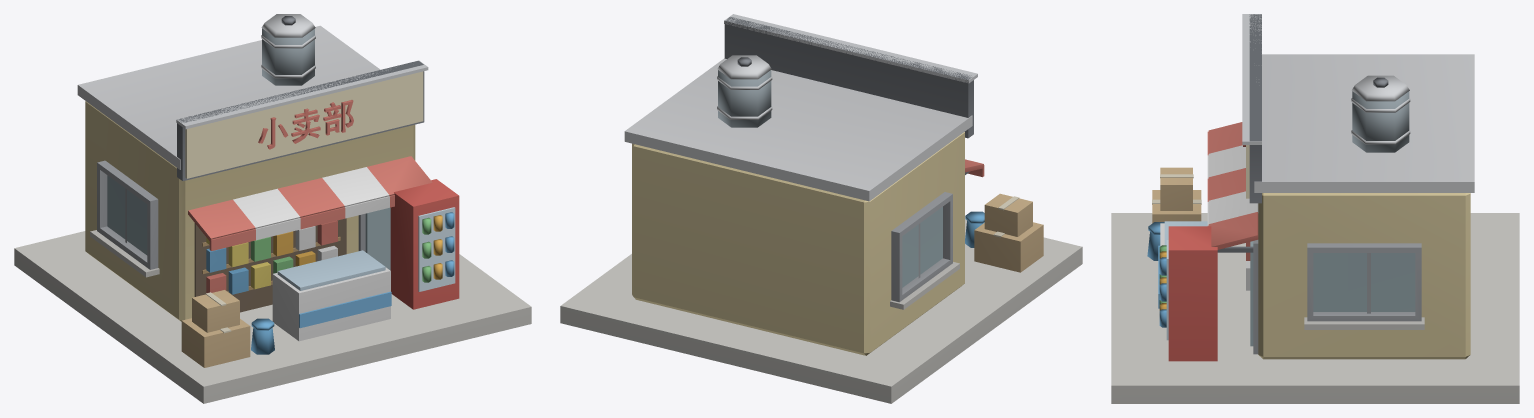
The model's file is store.glb.
3 views of the same model, side by side, from view 1: azimuth 30°, elevation 25°; view 2: azimuth 150°, elevation 25°; view 3: azimuth 270°, elevation 25° (orthographic). The views are drawn at different scales.
Parts seen in each view (by area): view 1: store; view 2: store; view 3: store.
Boxes of the visible parts, x1,y1,x2,y2 form: store: (14, 14, 531, 403); store: (560, 14, 1082, 403); store: (1111, 14, 1519, 403).
Bounding box in the file's own units: 1 × 0.707 × 1.
